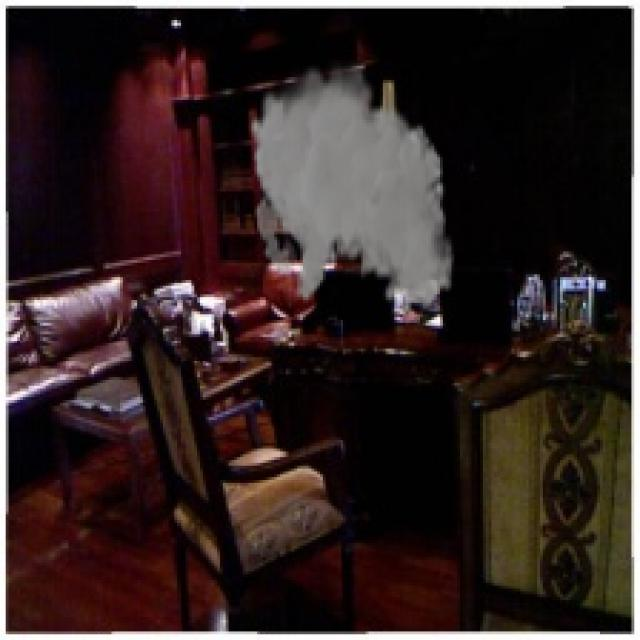smoke: (249, 54, 454, 317)
